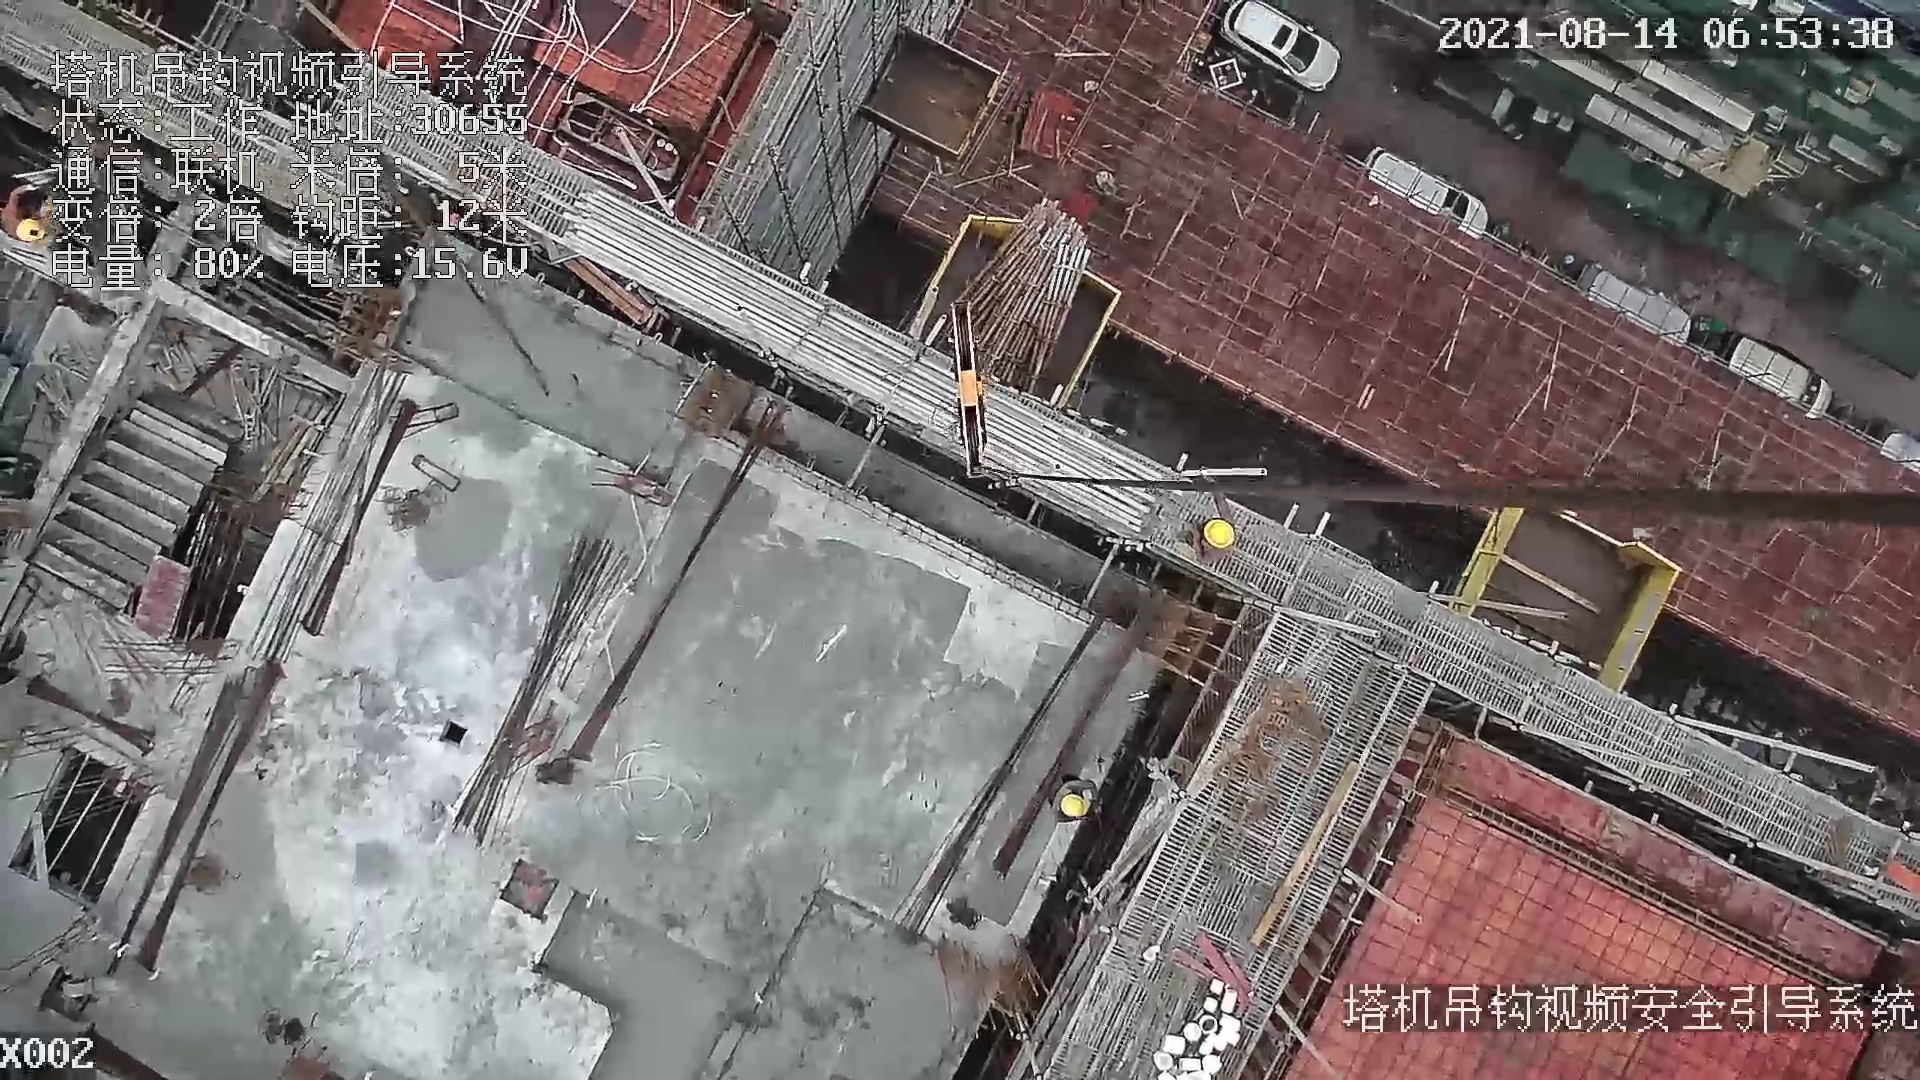helmet: (1202, 519, 1235, 549), (1060, 794, 1089, 817), (16, 219, 42, 240)
hook: (935, 295, 1001, 468)
person: (1183, 481, 1244, 571), (1047, 776, 1103, 826)
rebar: (559, 189, 1162, 533), (452, 534, 629, 847)
scaffold: (946, 199, 1092, 395)
